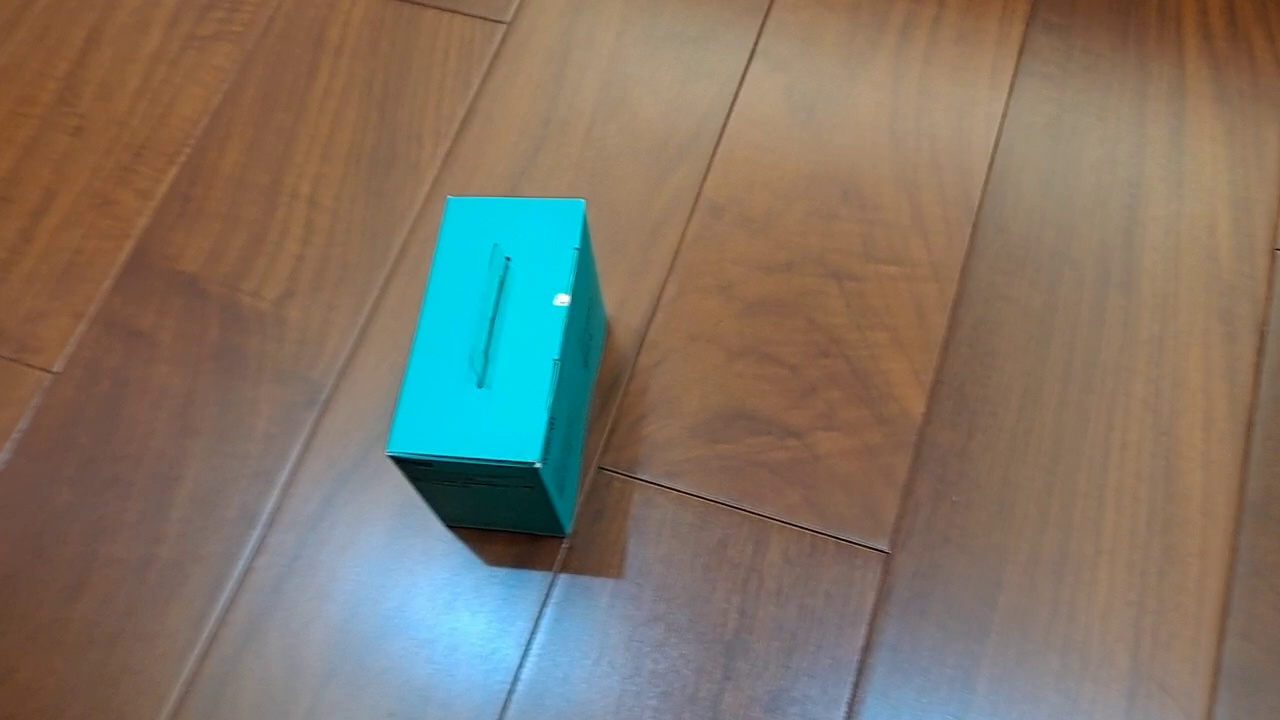webcam: (382, 193, 612, 540)
